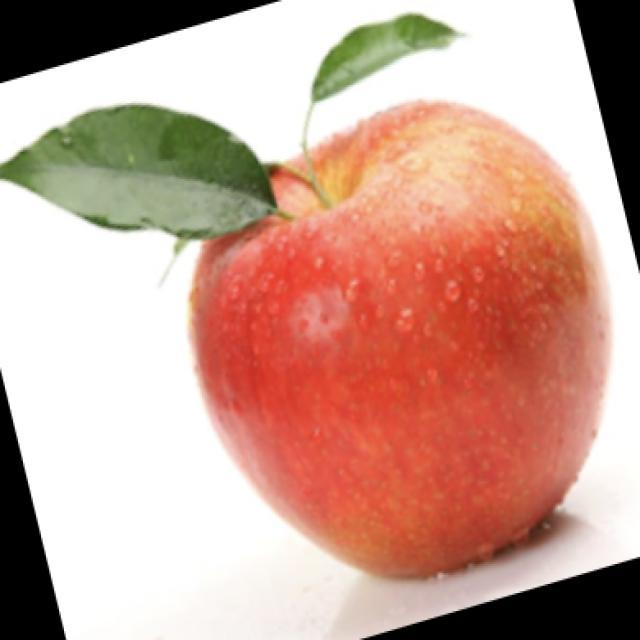Fresh Apple: (183, 104, 610, 584)
